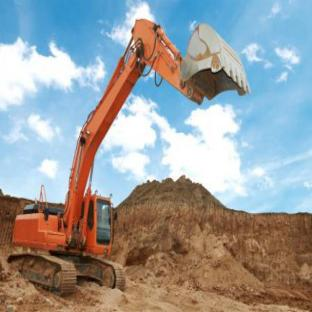ExcavationMachinery: (10, 15, 255, 293)
